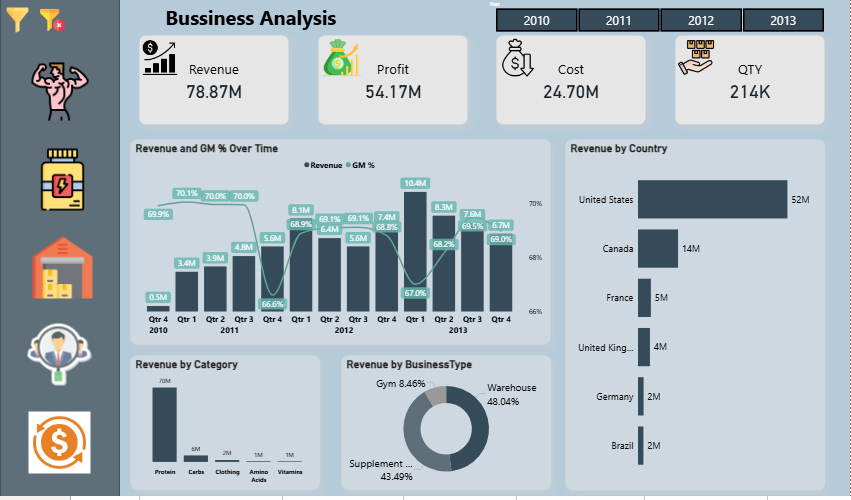

Layout of this report page (visuals, bound fields, positions):
{"tool":"powerbi","page":{"name":"Main","canvas":[1700,1000],"ordinal":0},"visuals":[{"type":"shape","box":[0,0,240,1000],"z":0},{"type":"cardVisual","fields":{"Data":["Calculations.Revenue"]},"box":[278,74,300,180],"z":1000},{"type":"cardVisual","fields":{"Data":["Calculations.Profit"]},"box":[636,74,300,180],"z":2000},{"type":"cardVisual","fields":{"Data":["Calculations.Cost"]},"box":[992,74,300,180],"z":3000},{"type":"cardVisual","fields":{"Data":["Calculations.QTY"]},"box":[1350,74,300,180],"z":4000},{"type":"lineStackedColumnComboChart","title":"Revenue and GM %  Over Time","fields":{"Category":["Calendar2.Date.Variation.Date Hierarchy.Year","Calendar2.Date.Variation.Date Hierarchy.Quarter"],"Y":["Calculations.Revenue"],"Y2":["Calculations.GM %"]},"box":[260,282,842,412],"z":5000},{"type":"barChart","title":"Revenue by Country","fields":{"Y":["Calculations.Revenue"],"Category":["Customers.CountryName"]},"box":[1129.2,281.2,520.8,704.2],"z":6000},{"type":"columnChart","title":"Revenue by Category","fields":{"Y":["Calculations.Revenue"],"Category":["Products.CategoryName"]},"box":[260.4,714.6,381.2,270.8],"z":7000},{"type":"donutChart","fields":{"Y":["Calculations.Revenue"],"Category":["Customers.BusinessType"]},"box":[681.2,714.6,420.8,270.8],"z":8000},{"type":"slicer","fields":{"Values":["Calendar2.Date.Variation.Date Hierarchy.Year"]},"box":[966,0,706,74],"z":9000},{"type":"image","box":[278,74,84,90],"z":11000},{"type":"image","box":[636,74,94,90],"z":12000},{"type":"image","box":[992,74,88,90],"z":13000},{"type":"image","box":[1350,74,84,90],"z":14000},{"type":"actionButton","box":[239.6,0,522.9,75],"z":15000},{"type":"image","title":"Main Filter","box":[0,14,70,60],"z":20000},{"type":"image","title":"Clear Filters","box":[70,14,70,60],"z":21000},{"type":"image","title":"Gym","box":[18,120,202,134],"z":22000},{"type":"image","title":"Suplments","box":[24,295.5,202,134],"z":23000},{"type":"image","title":"Home","box":[24,471,202,134],"z":24000},{"type":"image","title":"Customers","box":[18,646.5,202,134],"z":25000},{"type":"image","title":"Returns","box":[18,822,202,134],"z":26000},{"type":"cardVisual","fields":{"Data":["Calculations.Arrow Rev"]},"box":[478,120,100,110],"z":27000},{"type":"cardVisual","fields":{"Data":["Calculations.Arrow Profit"]},"box":[842,108,100,134],"z":28000},{"type":"cardVisual","fields":{"Data":["Calculations.Arrow Cost"]},"box":[1174,108,118,134],"z":29000}]}

Visuals, with their boxes on the page's 1700x1000 design canvas (x1, y1, x2, y2). These are canvas units, not pixel positions in the 851x500 screenshot, which may show the page scaled, cropped or inside an application window:
shape: <bbox>0, 0, 240, 1000</bbox>
cardVisual - Calculations.Revenue: <bbox>278, 74, 578, 254</bbox>
cardVisual - Calculations.Profit: <bbox>636, 74, 936, 254</bbox>
cardVisual - Calculations.Cost: <bbox>992, 74, 1292, 254</bbox>
cardVisual - Calculations.QTY: <bbox>1350, 74, 1650, 254</bbox>
"Revenue and GM %  Over Time" lineStackedColumnComboChart: <bbox>260, 282, 1102, 694</bbox>
"Revenue by Country" barChart: <bbox>1129, 281, 1650, 985</bbox>
"Revenue by Category" columnChart: <bbox>260, 715, 642, 985</bbox>
donutChart - Calculations.Revenue x Customers.BusinessType: <bbox>681, 715, 1102, 985</bbox>
slicer - Calendar2.Date.Variation.Date Hierarchy.Year: <bbox>966, 0, 1672, 74</bbox>
image: <bbox>278, 74, 362, 164</bbox>
image: <bbox>636, 74, 730, 164</bbox>
image: <bbox>992, 74, 1080, 164</bbox>
image: <bbox>1350, 74, 1434, 164</bbox>
actionButton: <bbox>240, 0, 762, 75</bbox>
"Main Filter" image: <bbox>0, 14, 70, 74</bbox>
"Clear Filters" image: <bbox>70, 14, 140, 74</bbox>
"Gym" image: <bbox>18, 120, 220, 254</bbox>
"Suplments" image: <bbox>24, 296, 226, 430</bbox>
"Home" image: <bbox>24, 471, 226, 605</bbox>
"Customers" image: <bbox>18, 646, 220, 780</bbox>
"Returns" image: <bbox>18, 822, 220, 956</bbox>
cardVisual - Calculations.Arrow Rev: <bbox>478, 120, 578, 230</bbox>
cardVisual - Calculations.Arrow Profit: <bbox>842, 108, 942, 242</bbox>
cardVisual - Calculations.Arrow Cost: <bbox>1174, 108, 1292, 242</bbox>
